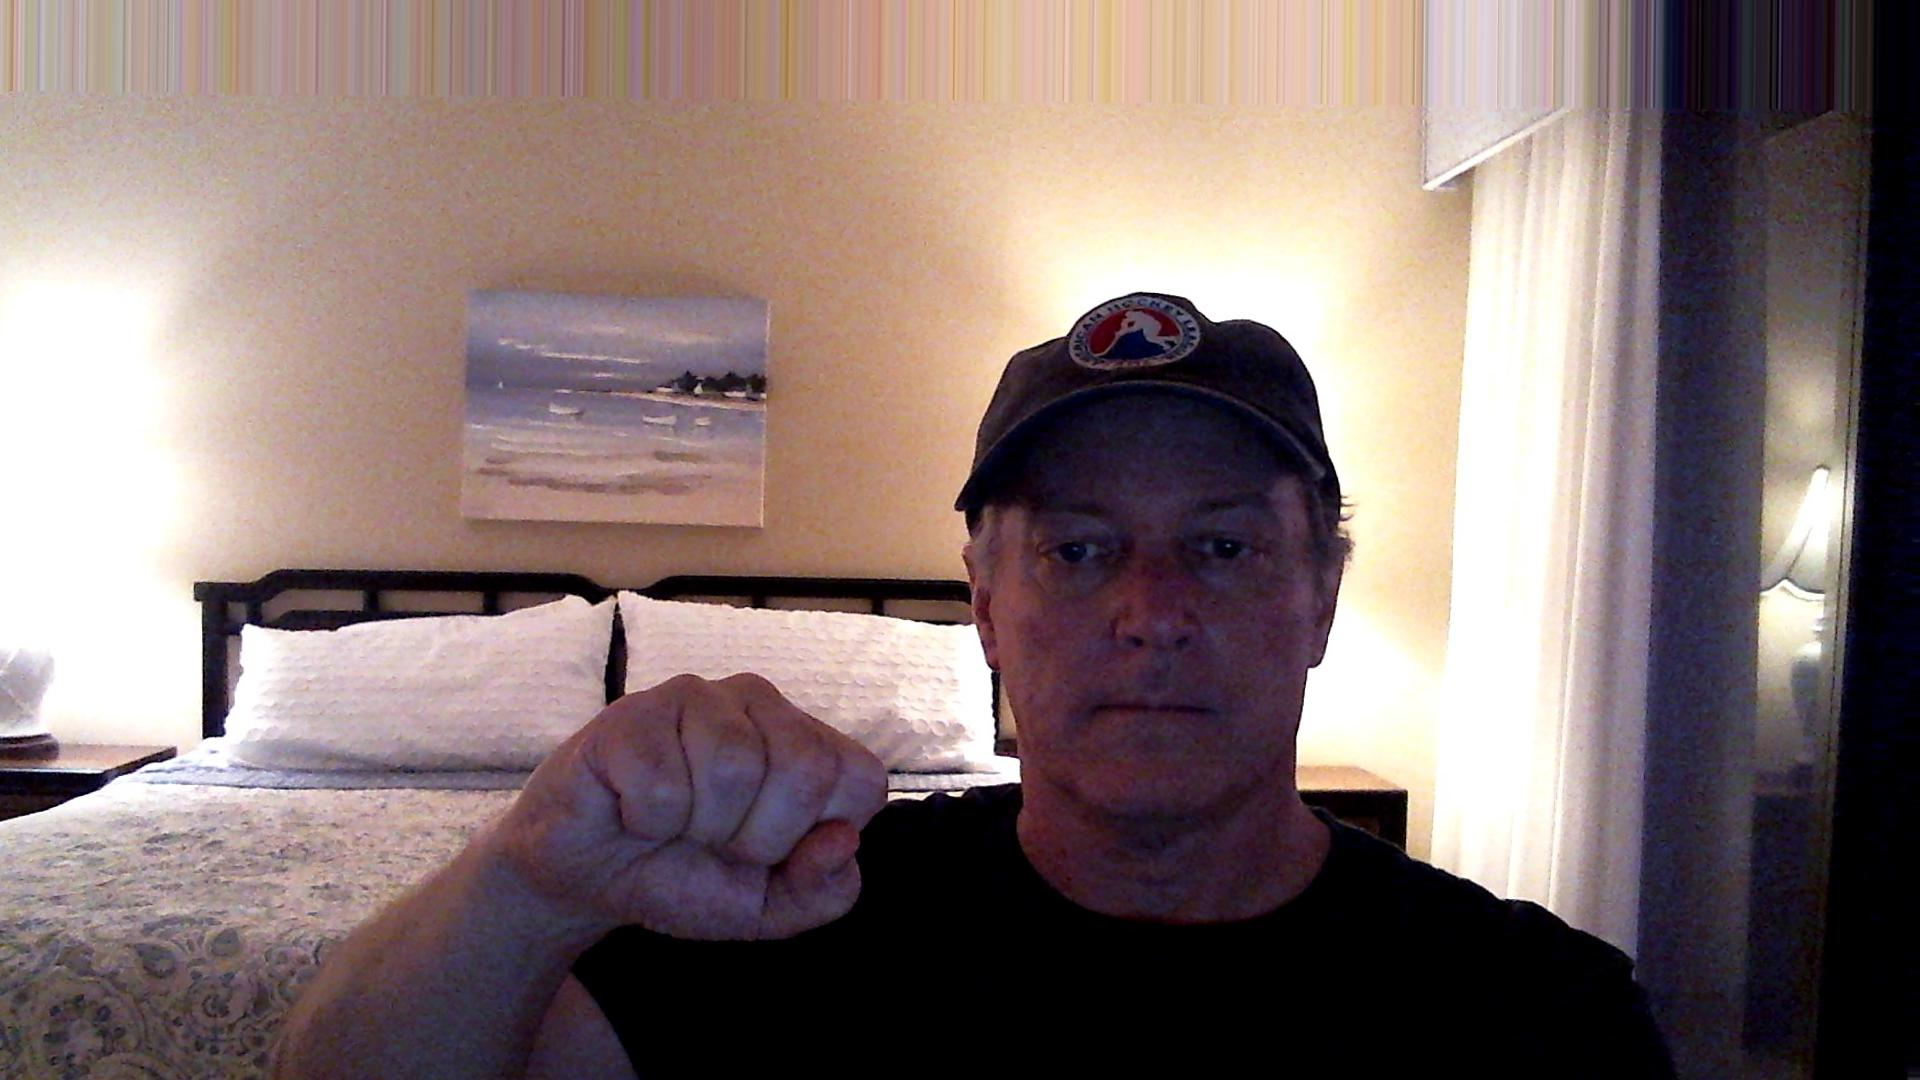Yes: (473, 669, 949, 952)
